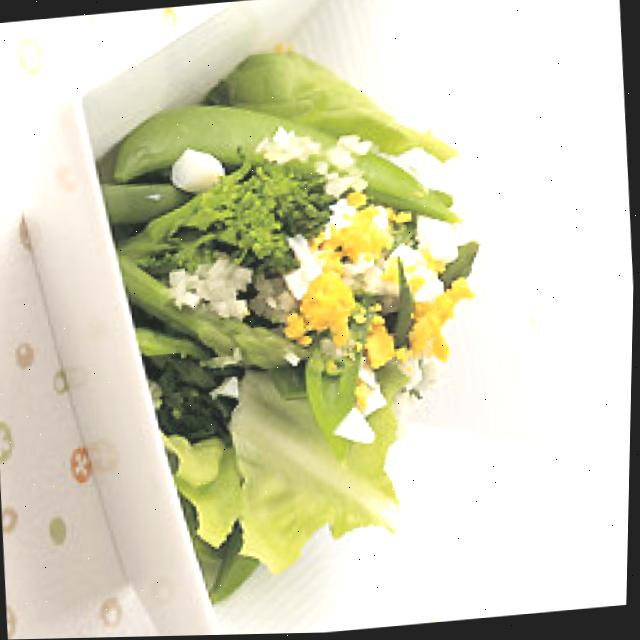蔬菜料理: (1, 0, 585, 640)
